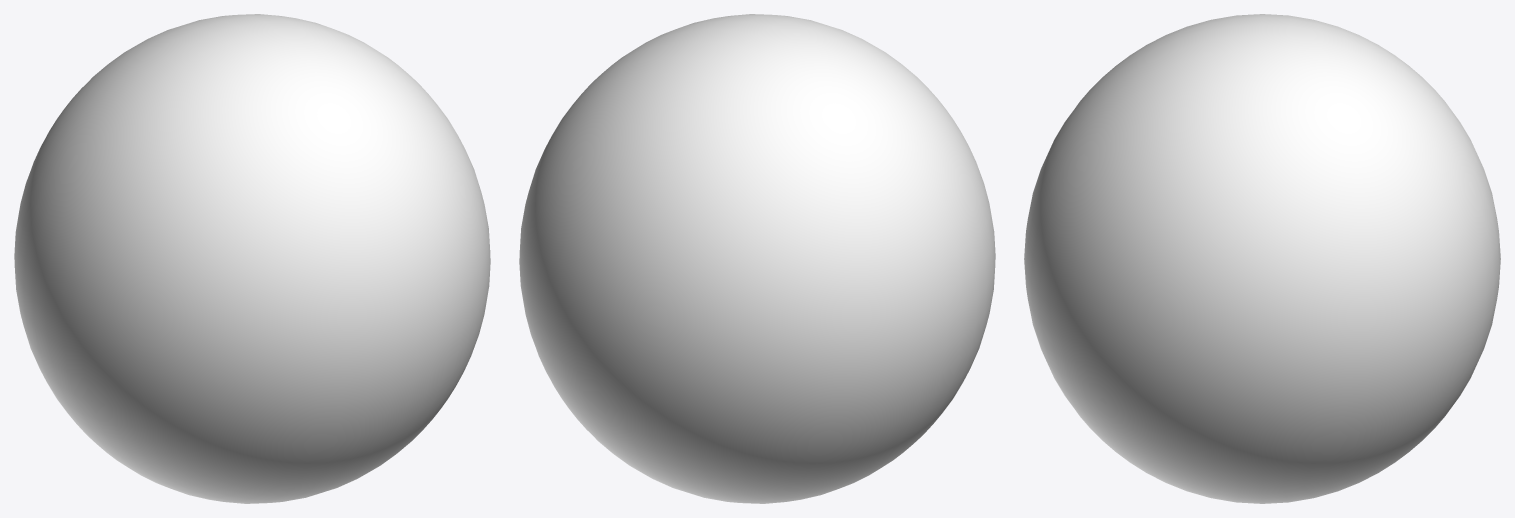
File: hydrogenf.fbx
3 renders of one model, left to right at view 1: azimuth 30°, elevation 25°; view 2: azimuth 150°, elevation 25°; view 3: azimuth 270°, elevation 25°, orthographic.
Visible parts, largest first — view 1: node_id5; view 2: node_id5; view 3: node_id5.
Boxes of the visible parts, left/top/right/bottom form: node_id5: left=14, top=14, right=490, bottom=503; node_id5: left=519, top=14, right=995, bottom=503; node_id5: left=1024, top=14, right=1500, bottom=503.
Bounding box in the file's own units: 0.4948 × 0.512 × 0.4948.
1 material, 1 textured.
